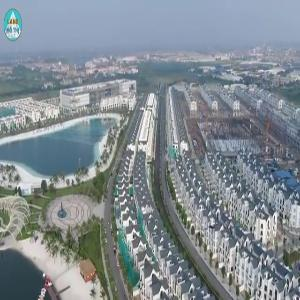drone: (198, 214, 228, 244)
